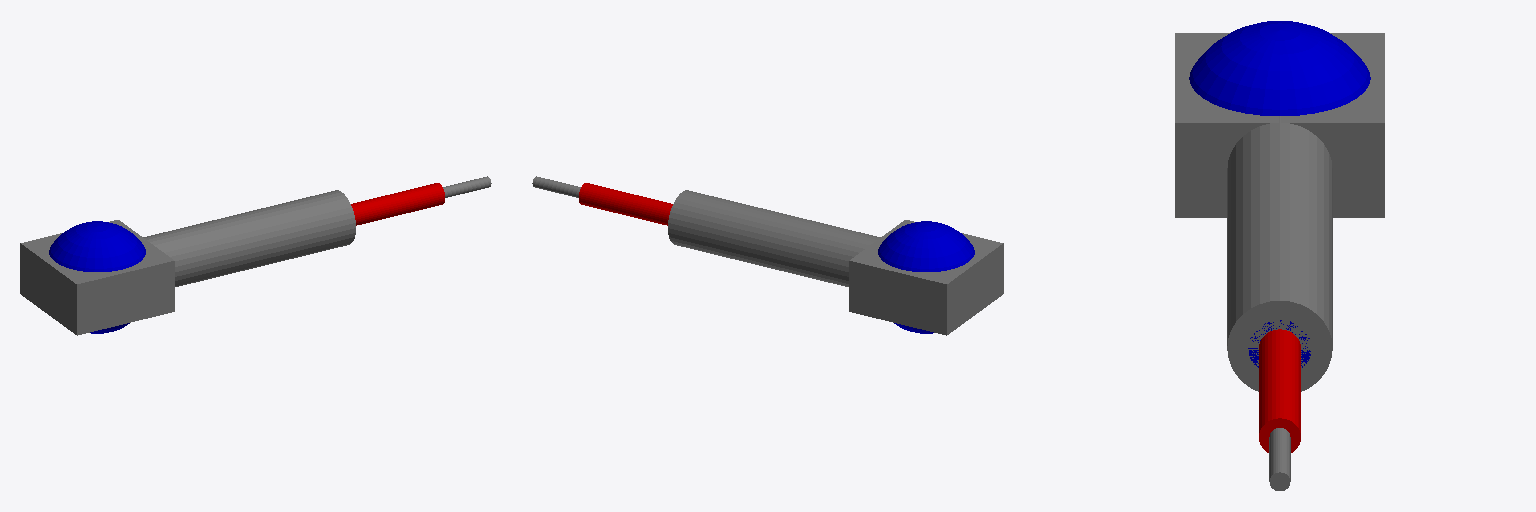
URDF robot description (giraffe_robot):
<?xml version="1.0" ?>
<robot name="giraffe_robot">
    <material name="grey">
        <color rgba="0.5 0.5 0.5 1"/>
    </material>
    <material name="blue">
        <color rgba="0.0 0.0 0.8 1"/>
    </material>
    <material name="red">
        <color rgba="0.8 0.0 0.0 1"/>
    </material>

    <link name="world" />

    <joint name="giraffe_fixed_base" type="fixed">
        <parent link="world" />
        <child  link="base_link" />
        <origin xyz="0 0 4.0" rpy="0 0 0" />
    </joint>

    <link name="base_link">
        <visual>
            <material name="grey" />
            <geometry>
                <box size="0.2 0.2 0.1"/>
            </geometry>
        </visual>

        <inertial>
            <mass value="1.0" />
            <inertia ixx="0.01" ixy="0" ixz="0" iyy="0.01" iyz="0" izz="0.01"/>
        </inertial>
    </link>

    <joint name="joint1_pan" type="revolute">
        <parent link="base_link" />
        <child  link="link1_shoulder" />
        <origin xyz="0 0 0" rpy="0 0 0" />
        <axis xyz="0 0 1" />
        <limit lower="-3.14" upper="3.14" effort="100" velocity="1.0"/>
    </joint>

    <link name="link1_shoulder">
        <visual>
            <material name="blue" />
            <geometry>
                <sphere radius="0.1" />
            </geometry>
        </visual>

        <inertial>
            <mass value="0.5" />
            <inertia ixx="0.01" ixy="0" ixz="0" iyy="0.01" iyz="0" izz="0.01"/>
        </inertial>
    </link>

    <joint name="joint2_tilt" type="revolute">
        <parent link="link1_shoulder"/>
        <child link="link2_tube_outer"/>
        <origin xyz="0 0 0" rpy="0 1.57 0"/>
        <axis xyz="0 1 0"/>
        <limit lower="-1.57" upper="0.0" effort="100" velocity="1.0"/>
    </joint>

    <link name="link2_tube_outer">
        <visual>
        <origin xyz="0 0 0.25" rpy="0 0 0"/>
        <geometry>
            <cylinder radius="0.05" length="0.5"/>
        </geometry>
        <material name="grey"/>
        </visual>
        <inertial>
            <mass value="2.0"/>
            <inertia ixx="0.1" ixy="0" ixz="0" iyy="0.1" iyz="0" izz="0.01"/>
        </inertial>
    </link>

    <joint name="joint3_prismatic" type="prismatic">
        <parent link="link2_tube_outer"/>
        <child link="link3_tube_inner"/>
        <origin xyz="0 0 0.5" rpy="0 0 0"/>
        <axis xyz="0 0 1"/>
        <limit lower="0.0" upper="7.0" effort="200" velocity="2"/>
    </joint>

    <link name="link3_tube_inner">
        <visual>
        <origin xyz="0 0 -0.25" rpy="0 0 0"/>
        <geometry>
            <cylinder radius="0.03" length="0.5"/>
        </geometry>
        <material name="blue"/>
        </visual>
        <inertial>
        <mass value="1.0"/>
        <inertia ixx="0.05" ixy="0" ixz="0" iyy="0.05" iyz="0" izz="0.005"/>
        </inertial>
    </link>

    <joint name="joint4_pitch" type="revolute">
        <parent link="link3_tube_inner"/>
        <child link="link4_wrist"/>
        <origin xyz="0 0 0" rpy="0 0 0"/>
        <axis xyz="0 1 0"/>
        <limit lower="-1.57" upper="1.57" effort="50" velocity="2.0"/>
    </joint>

    <link name="link4_wrist">
        <visual>
            <origin xyz="0 0 0.1" rpy="0 0 0"/>
            <geometry>
                <cylinder radius="0.02" length="0.2"/>
            </geometry>
            <material name="red"/>
        </visual>
        <inertial>
        <mass value="0.2"/>
        <inertia ixx="0.001" ixy="0" ixz="0" iyy="0.001" iyz="0" izz="0.001"/>
        </inertial>
    </link>

    <joint name="joint5_roll" type="revolute">
        <parent link="link4_wrist"/>
        <child link="end_effector"/>
        <origin xyz="0 0 0.2" rpy="0 0 0"/>
        <axis xyz="1 0 0"/>
        <limit lower="-3.14" upper="3.14" effort="50" velocity="2.0"/>
    </joint>

    <link name="end_effector">
        <visual>
            <origin xyz="0 0 0.05" rpy="0 0 0"/>
            <geometry>
                <cylinder radius="0.01" length="0.1"/>
            </geometry>
            <material name="grey"/>
        </visual>
        <visual>
            <origin xyz="0 0 0.1" rpy="0.707 0 0"/> 
            <geometry>
                <mesh filename="package://giraffe_robot/models/microphone.stl" scale="0.001 0.001 0.001"/>
            </geometry>
            <material name="blue"/>
        </visual>
        <inertial>
            <mass value="0.2"/>
            <inertia ixx="0.001" ixy="0" ixz="0" iyy="0.001" iyz="0" izz="0.001"/>
        </inertial>
    </link>
</robot> 

--- Facts derived from the render (not from the file) ---
3 views of the same robot in one strip: view 1: azimuth 30°, elevation 25°; view 2: azimuth 150°, elevation 25°; view 3: azimuth 270°, elevation 25° (orthographic).
Model giraffe_robot with 7 links and 6 joints (4 revolute, 1 prismatic, 1 fixed), rooted at world, posed all joints at 0.
Visible links, largest first — view 1: link2_tube_outer, base_link, link1_shoulder, link4_wrist, end_effector; view 2: link2_tube_outer, base_link, link1_shoulder, link4_wrist, end_effector; view 3: link2_tube_outer, base_link, link1_shoulder, link4_wrist, end_effector.
Boxes of the visible links, <box> form: link2_tube_outer: <box>143,190,355,286</box>; base_link: <box>20,220,174,335</box>; link1_shoulder: <box>49,221,145,333</box>; link4_wrist: <box>351,183,444,225</box>; end_effector: <box>443,176,491,197</box>; link2_tube_outer: <box>668,190,880,286</box>; base_link: <box>849,220,1003,335</box>; link1_shoulder: <box>878,221,974,333</box>; link4_wrist: <box>579,183,672,225</box>; end_effector: <box>532,176,580,197</box>; link2_tube_outer: <box>1227,116,1332,391</box>; base_link: <box>1175,33,1384,217</box>; link1_shoulder: <box>1189,21,1370,115</box>; link4_wrist: <box>1259,329,1300,452</box>; end_effector: <box>1269,428,1290,490</box>.
Size in the robot's own frame: 0.9 by 0.2 by 0.2 metres.
Meshes: 1 distinct files referenced, 0 mesh visuals loaded (none loaded); not drawn: 1 (reference not matched to a file when rendering).